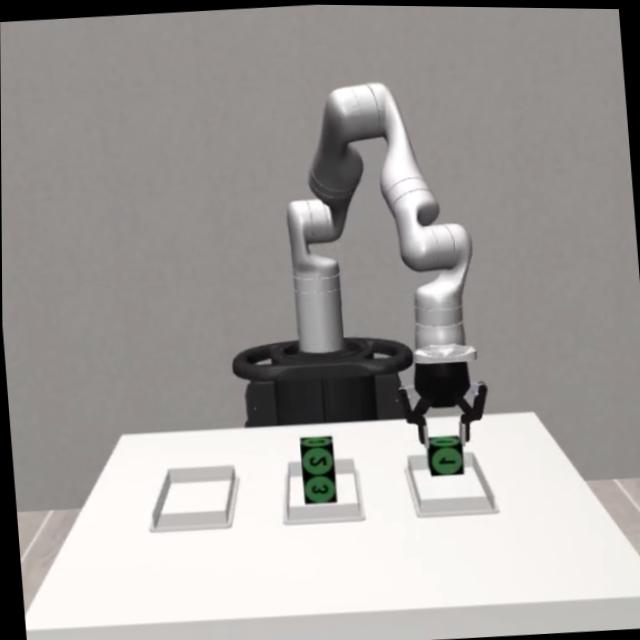cube1: (424, 432, 463, 473)
cube2: (300, 434, 334, 478)
cube3: (299, 470, 336, 503)
